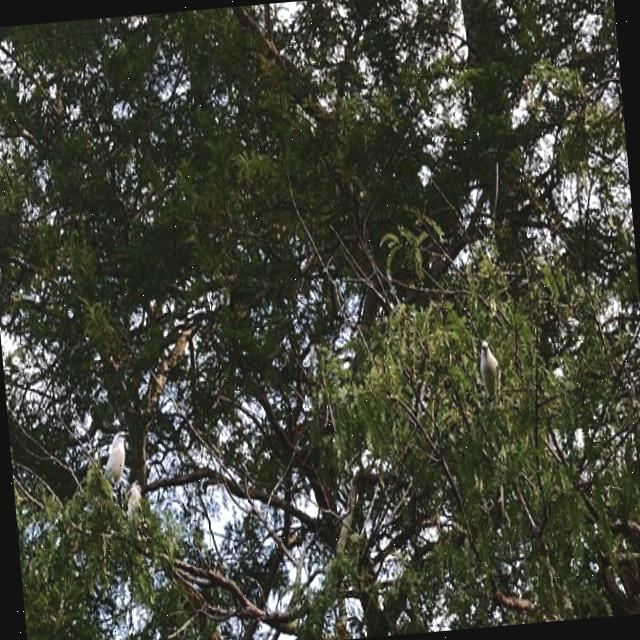Jalak Bali: (95, 423, 135, 492), (472, 336, 508, 406), (122, 474, 154, 528)
